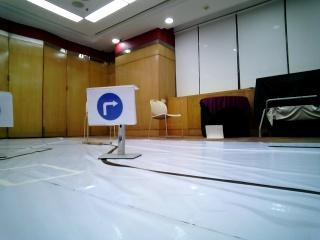right: (83, 77, 141, 125)
